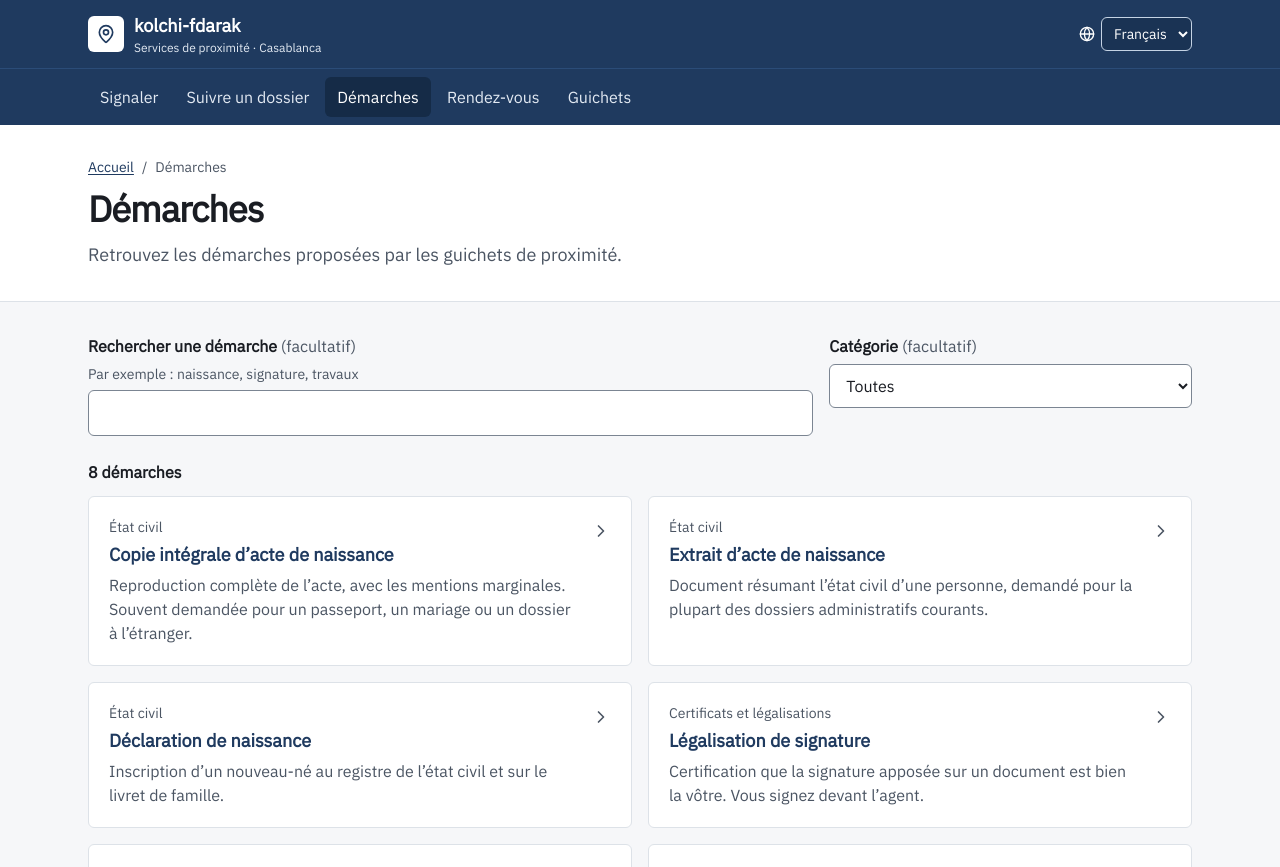
Test: catalogue des démarches › la recherche « naissance » réduit la liste
Type "naissance" into the search field labelled "Rechercher une démarche (facultatif)". click: point(451, 413)
box: [88,390,813,436]
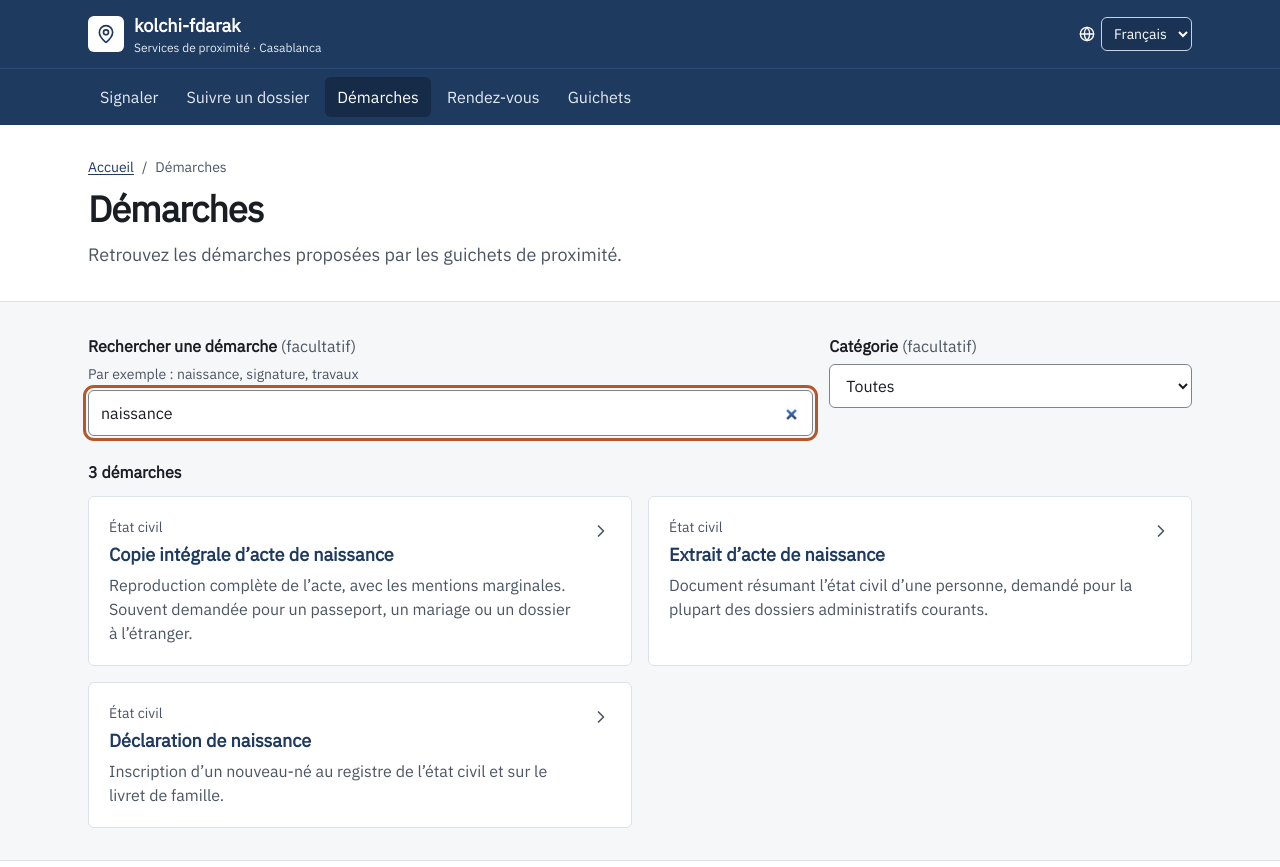
Check: the message reads "3 démarches", box [88,462,182,482]
